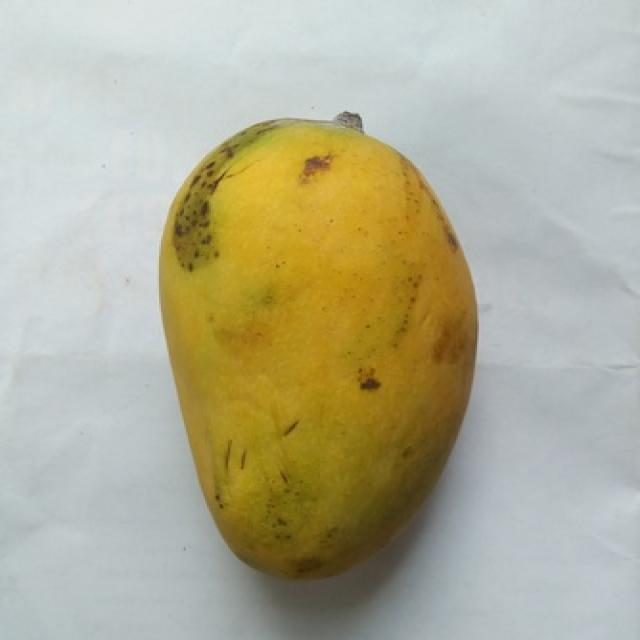Mango: (159, 122, 475, 573)
